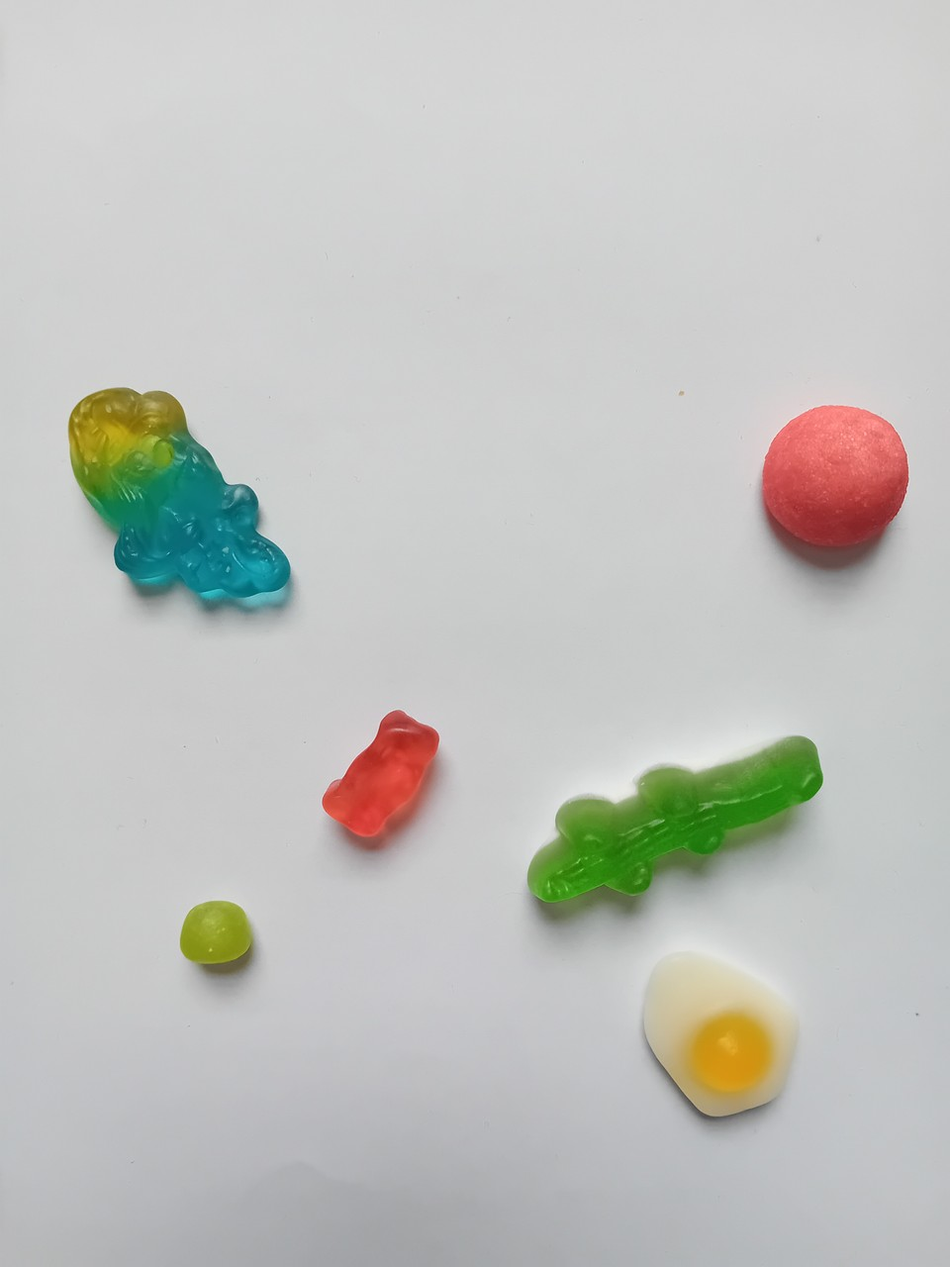crocodile_vert: (522, 723, 831, 909)
dragibus_vert: (173, 891, 259, 970)
oeuf_oeuf: (624, 945, 806, 1128)
ourson_orangeFonce: (320, 707, 444, 840)
schtroumpf_bleu-jaune: (50, 380, 299, 612)
tagada_fraise: (757, 403, 916, 567)
